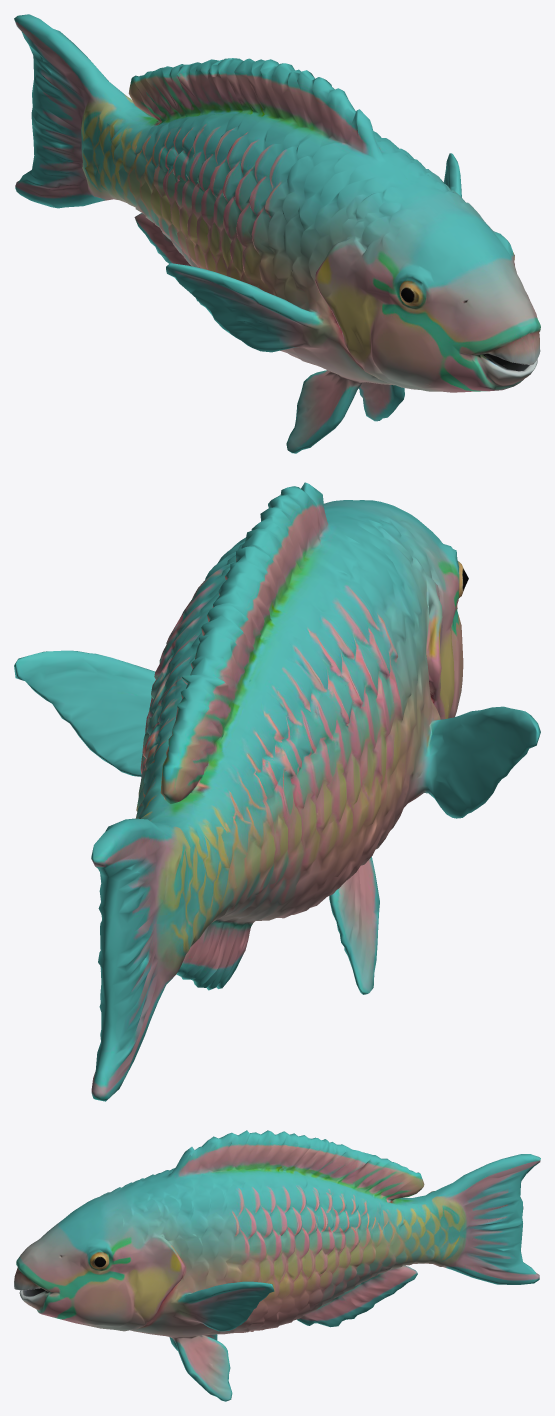
Rendered from parrot.glb.
The picture shows the model from 3 angles, top to bottom: view 1: azimuth 30°, elevation 25°; view 2: azimuth 150°, elevation 25°; view 3: azimuth 270°, elevation 25°; orthographic projection. The views are drawn at different scales.
Visible parts, largest first — view 1: tripo_node_e2aa34c8-66fc-4632-8184-5cf55dc2a33f; view 2: tripo_node_e2aa34c8-66fc-4632-8184-5cf55dc2a33f; view 3: tripo_node_e2aa34c8-66fc-4632-8184-5cf55dc2a33f.
Boxes of the visible parts, left/top/right/bottom form: tripo_node_e2aa34c8-66fc-4632-8184-5cf55dc2a33f: left=14, top=14, right=540, bottom=453; tripo_node_e2aa34c8-66fc-4632-8184-5cf55dc2a33f: left=14, top=482, right=540, bottom=1101; tripo_node_e2aa34c8-66fc-4632-8184-5cf55dc2a33f: left=14, top=1130, right=540, bottom=1401.
Size of the model in its own units: 0.4991 by 0.5132 by 0.9758.
Materials: 1 (1 with a texture image).
